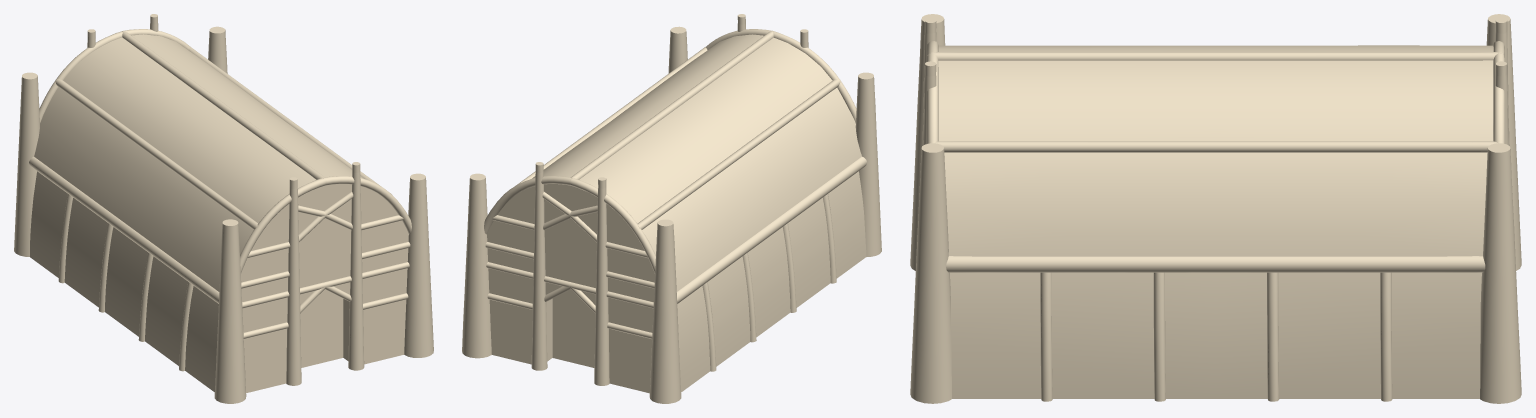
The model's file is mudhif.glb.
3 views of the same model, side by side, from view 1: azimuth 30°, elevation 25°; view 2: azimuth 150°, elevation 25°; view 3: azimuth 270°, elevation 25° (orthographic). The views are drawn at different scales.
Size of the model in its own units: 31 by 28.07 by 54.
